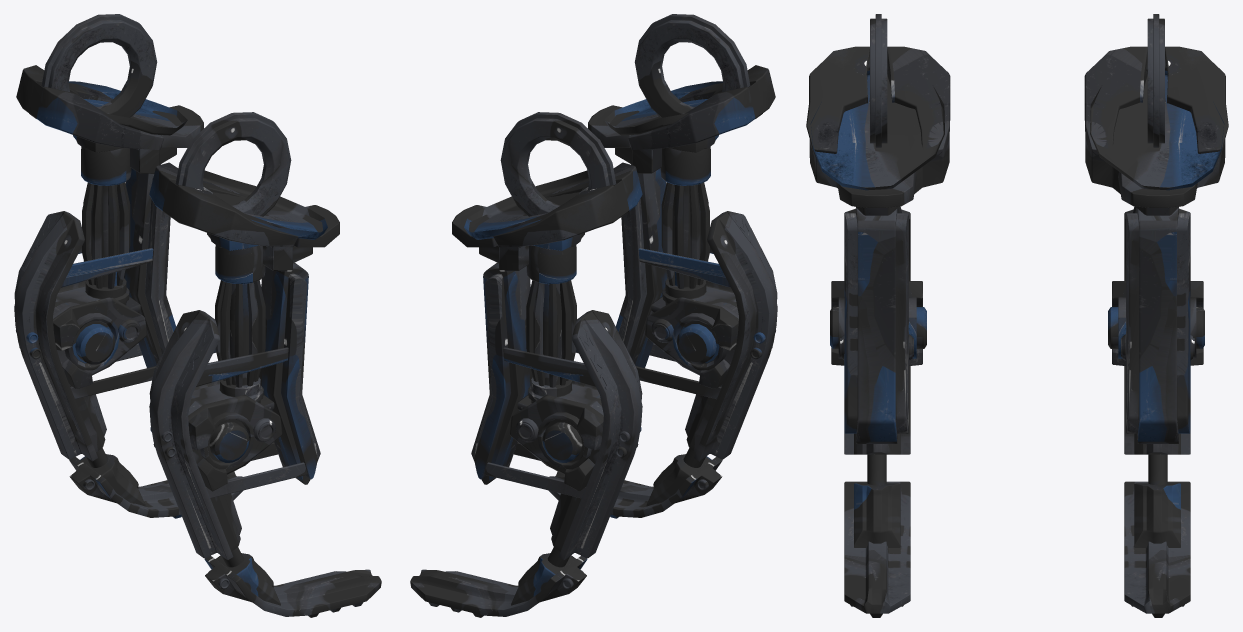
File: SM_Powerup_SpeedBoost.fbx
The picture shows the model from 3 angles, left to right: view 1: azimuth 30°, elevation 25°; view 2: azimuth 150°, elevation 25°; view 3: azimuth 270°, elevation 25°; orthographic projection. The views are drawn at different scales.
Parts seen in each view (by area): view 1: SpeedBoost; view 2: SpeedBoost; view 3: SpeedBoost.
Boxes of the visible parts, x1=… form: SpeedBoost: x1=14, y1=14, x2=381, y2=617; SpeedBoost: x1=410, y1=14, x2=777, y2=617; SpeedBoost: x1=806, y1=14, x2=1228, y2=617.
Size of the model in its own units: 20.07 by 31.91 by 44.04.
